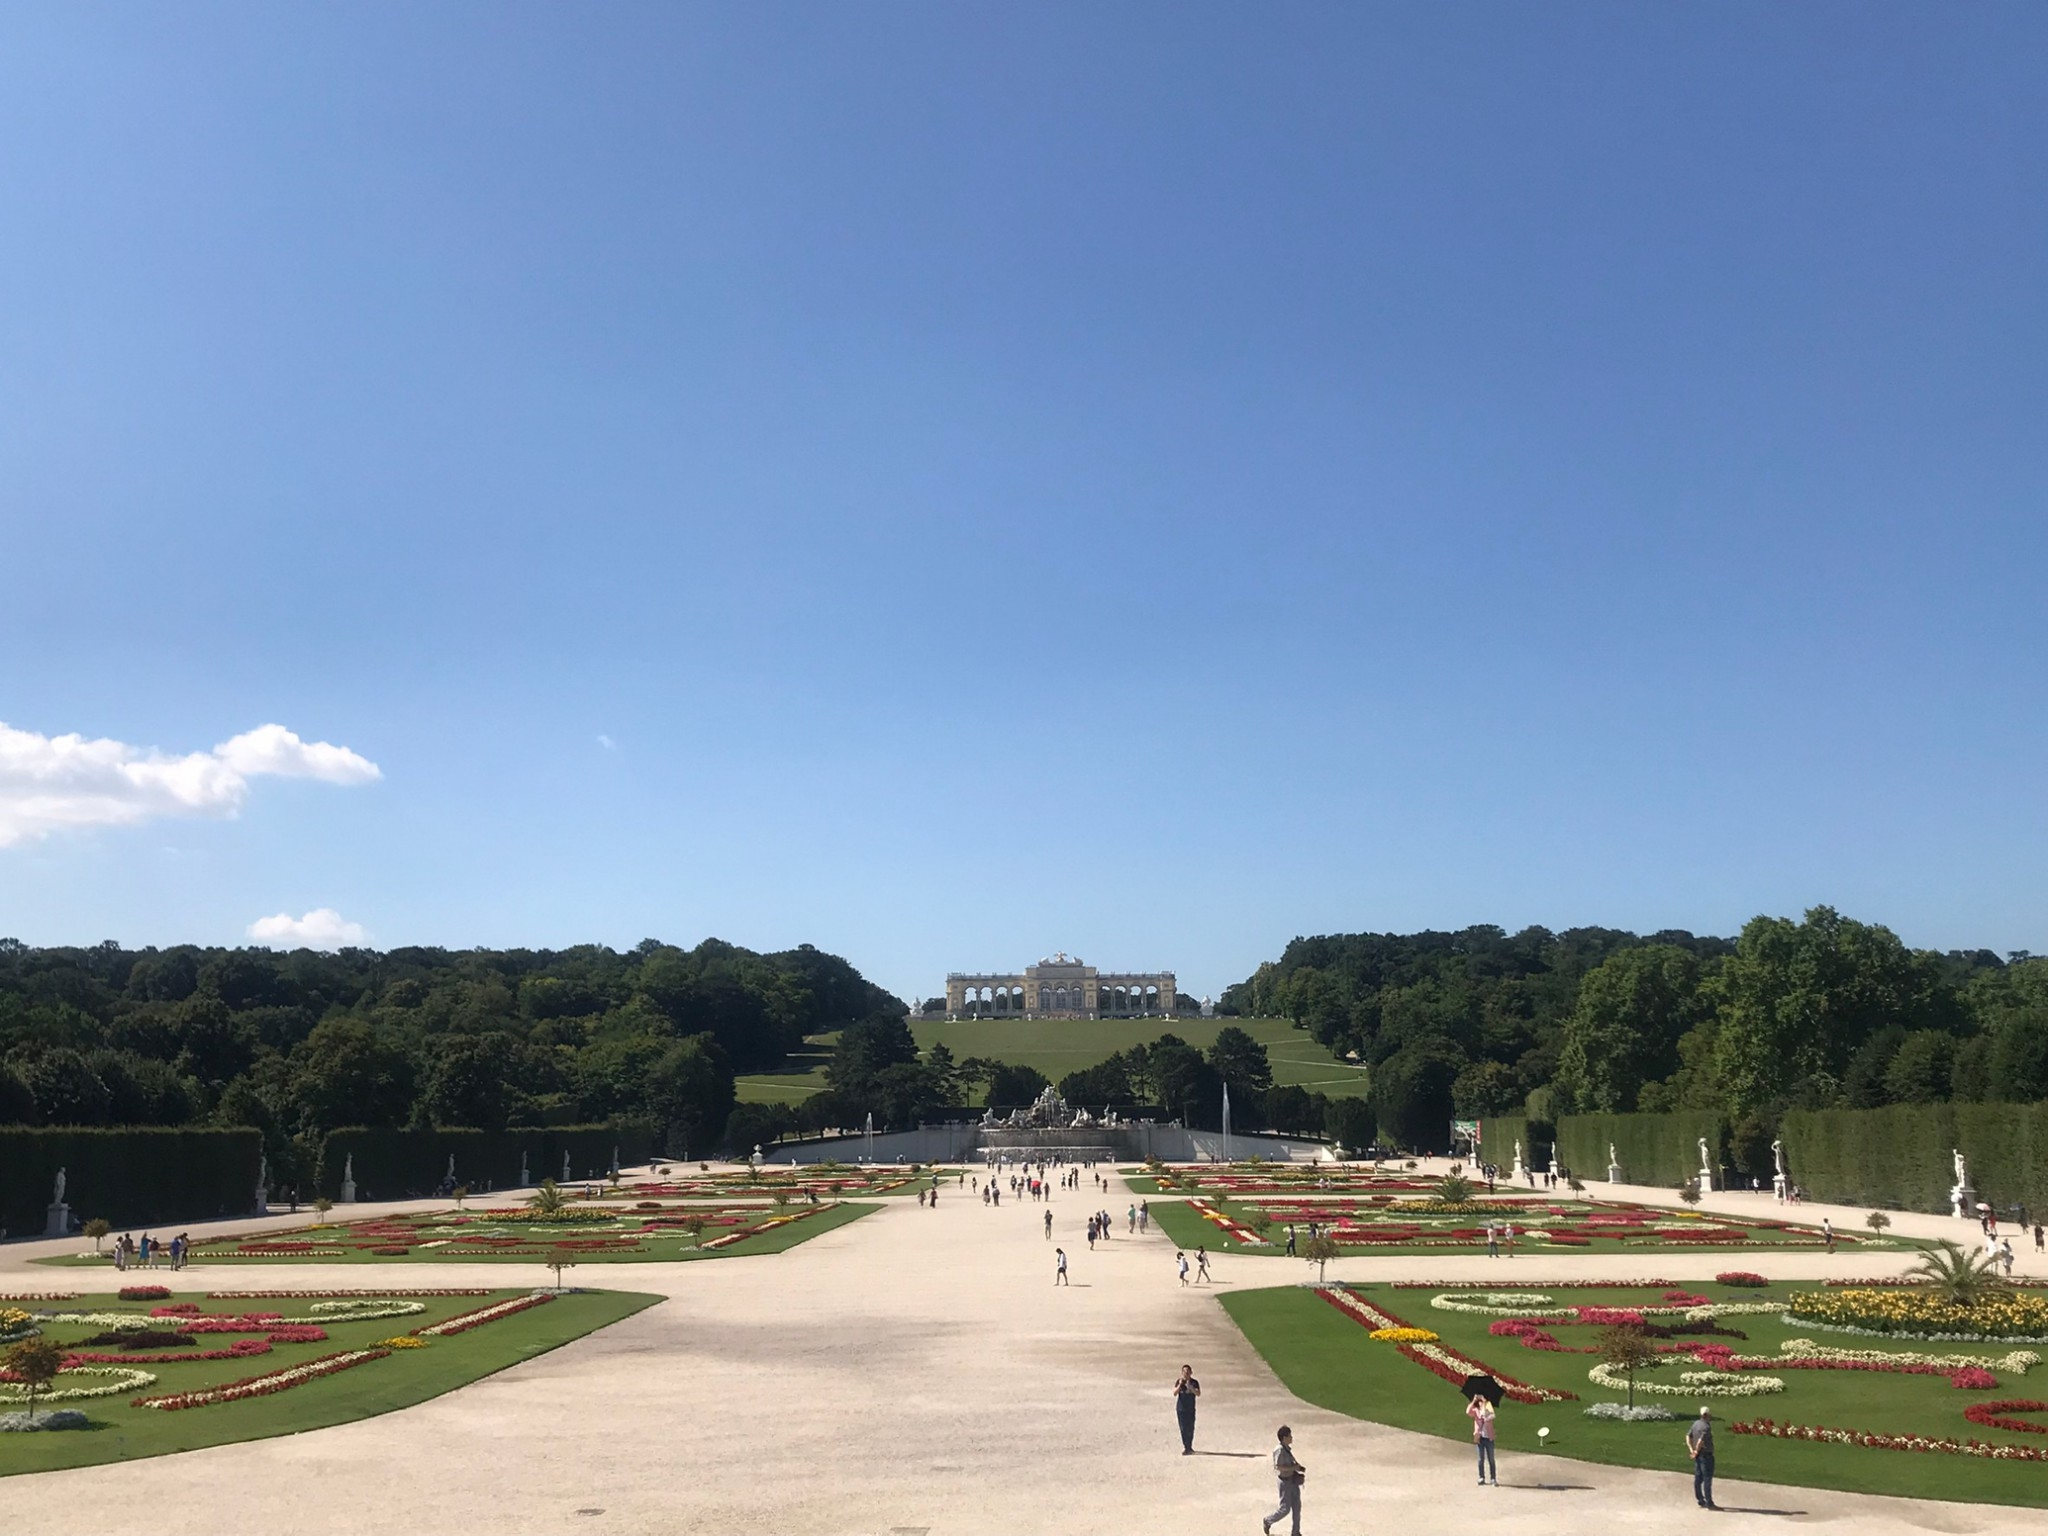people: (1666, 1408, 1734, 1516), (1263, 1425, 1316, 1536), (1463, 1396, 1504, 1481), (1175, 1363, 1210, 1460), (163, 1231, 187, 1269), (116, 1231, 134, 1275), (1049, 1249, 1069, 1284), (1202, 1246, 1213, 1293), (149, 1237, 163, 1266), (178, 1237, 190, 1266), (902, 1187, 919, 1208), (1043, 1210, 1054, 1240), (1143, 1205, 1157, 1231), (1175, 1249, 1187, 1278), (990, 1184, 1002, 1213), (1131, 1202, 1140, 1234), (978, 1184, 990, 1208), (1087, 1213, 1096, 1243), (1096, 1210, 1107, 1234), (1104, 1210, 1113, 1234), (925, 1187, 931, 1213)
